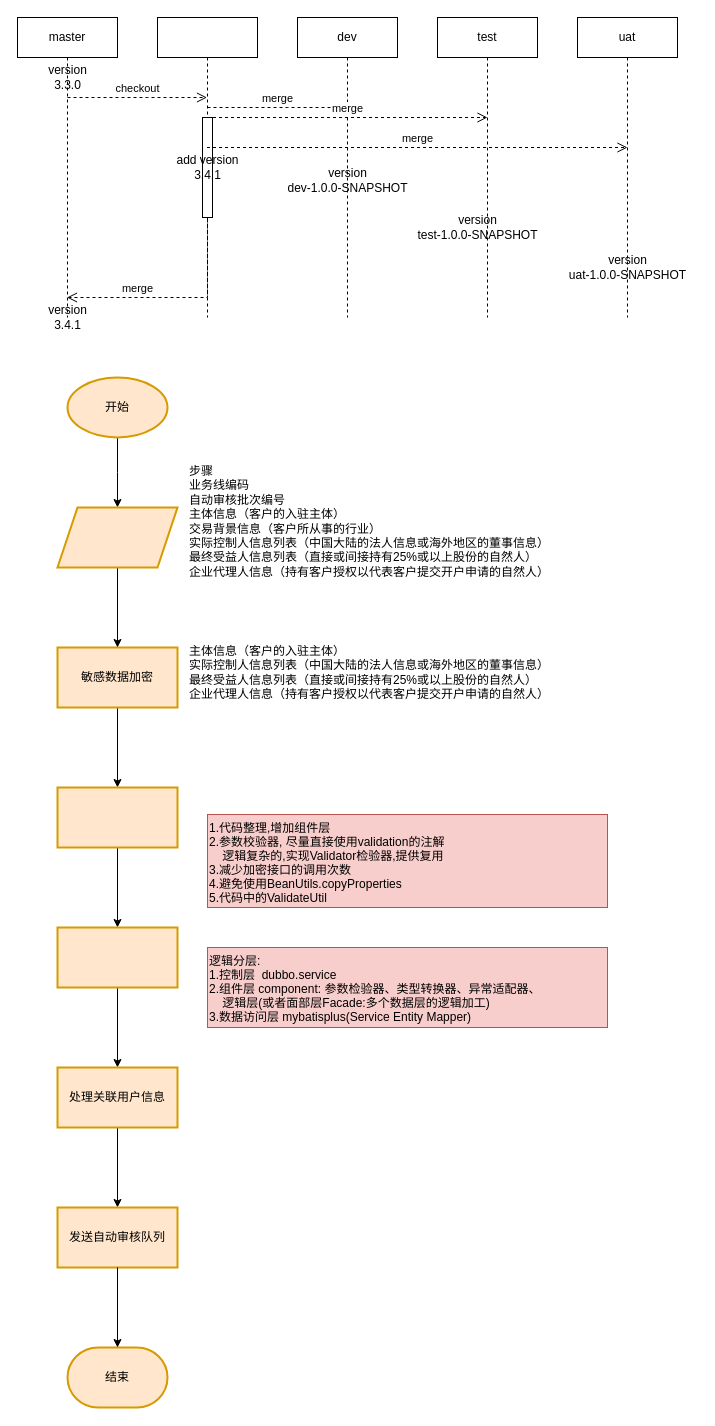
This 715x1426 diagram has some shape labels left out. The box of each missing label's shape, as (x1, y1, x2, y2) in pixels:
feat: (156, 16, 258, 318)
主体数据处理: (56, 926, 178, 988)
入驻申请资料: (56, 506, 178, 568)
参数校验: (56, 786, 178, 848)
